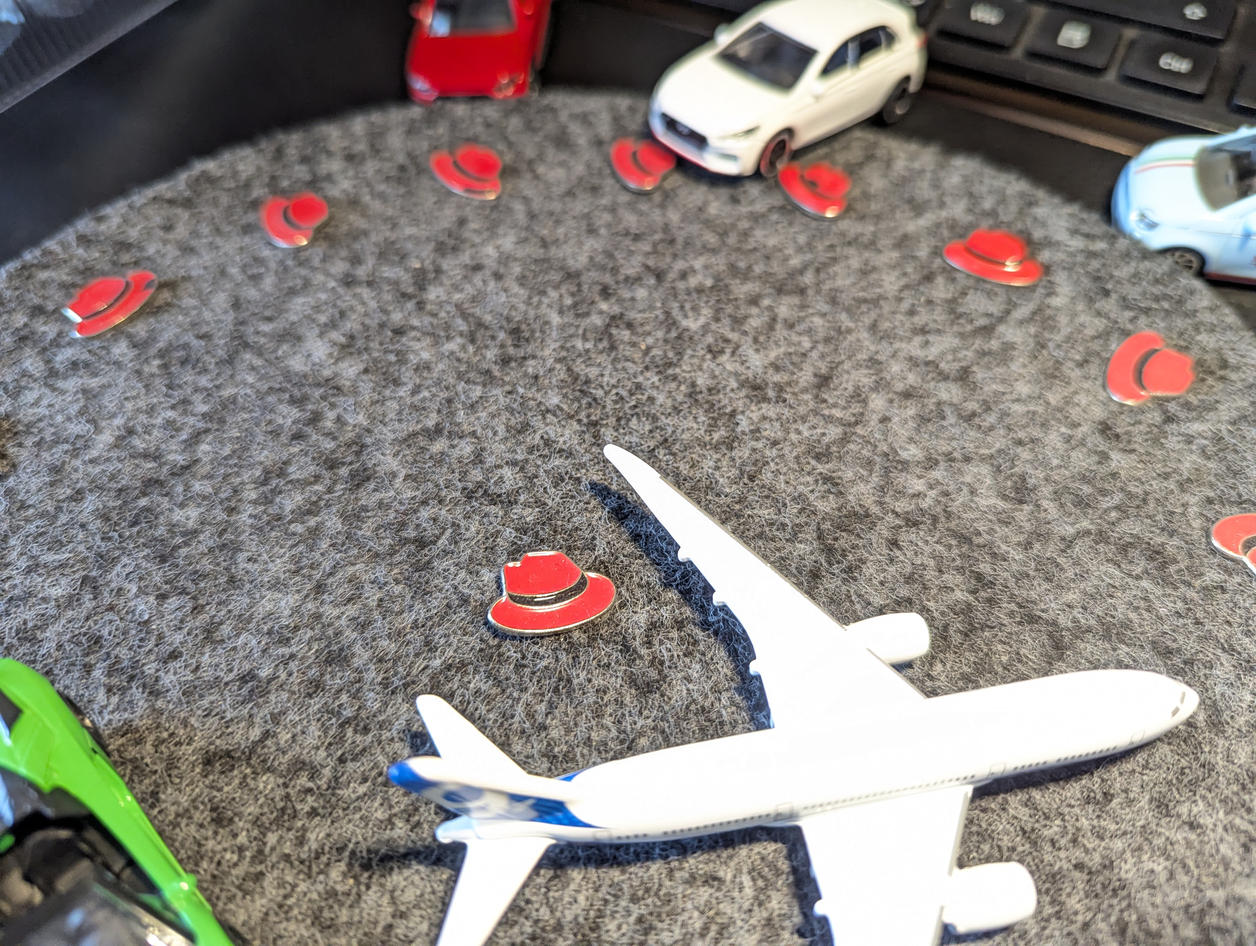Airplane: (320, 428, 1215, 946)
Car: (629, 0, 933, 187), (1091, 101, 1256, 294), (399, 0, 557, 108)
Red-Hat: (477, 544, 627, 649), (1096, 312, 1208, 432), (44, 252, 163, 347), (921, 209, 1050, 295), (420, 131, 515, 223), (245, 176, 329, 256), (596, 125, 678, 200), (771, 154, 855, 226)
Scratch: (453, 177, 508, 207), (131, 266, 162, 305), (799, 169, 826, 194)
